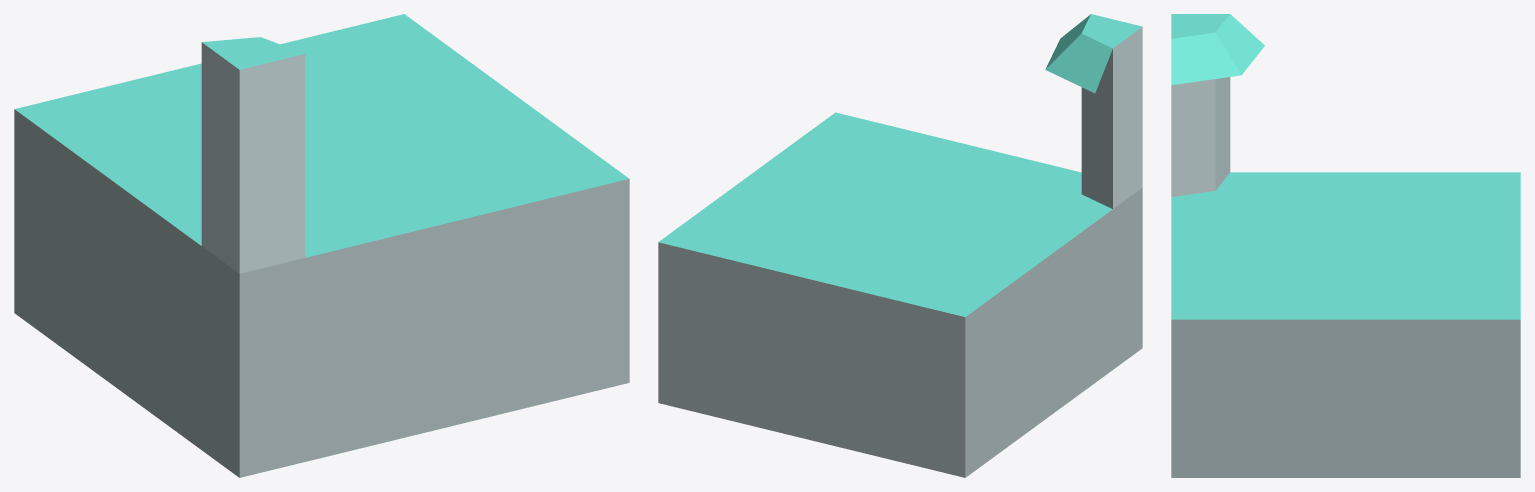
File: cliff_cornerTop_half_stone.glb
3 renders of one model, left to right at view 1: azimuth 30°, elevation 25°; view 2: azimuth 150°, elevation 25°; view 3: azimuth 270°, elevation 25°, orthographic. The views are drawn at different scales.
Visible parts, largest first — view 1: cliff_cornerTop_half_stone; view 2: cliff_cornerTop_half_stone; view 3: cliff_cornerTop_half_stone.
Boxes of the visible parts, <box> form: cliff_cornerTop_half_stone: <box>14,14,629,477</box>; cliff_cornerTop_half_stone: <box>658,14,1142,477</box>; cliff_cornerTop_half_stone: <box>1171,14,1520,477</box>.
Size of the model in its own units: 1 by 1 by 1.
